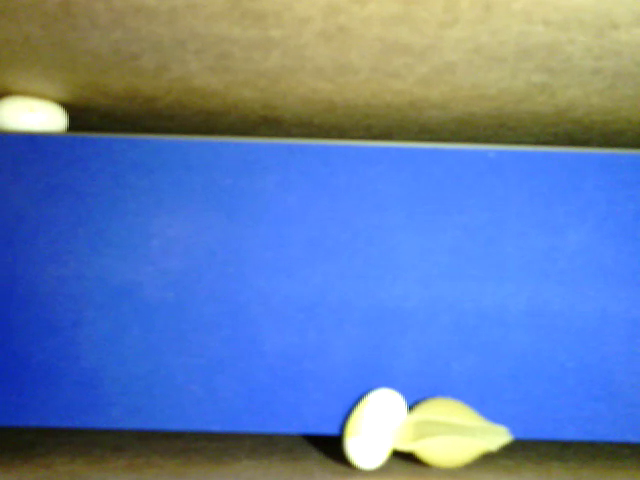shell: (392, 395, 512, 468)
